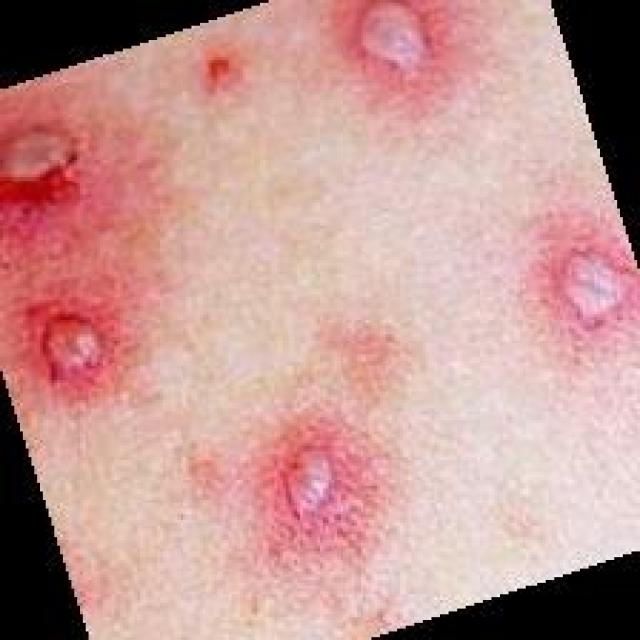others: (31, 53, 630, 590)
